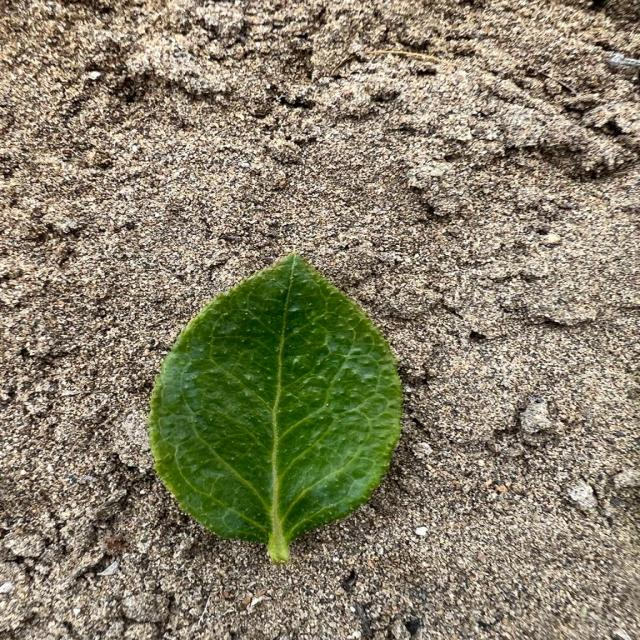Hojas con oidiosis: (144, 249, 404, 561)
